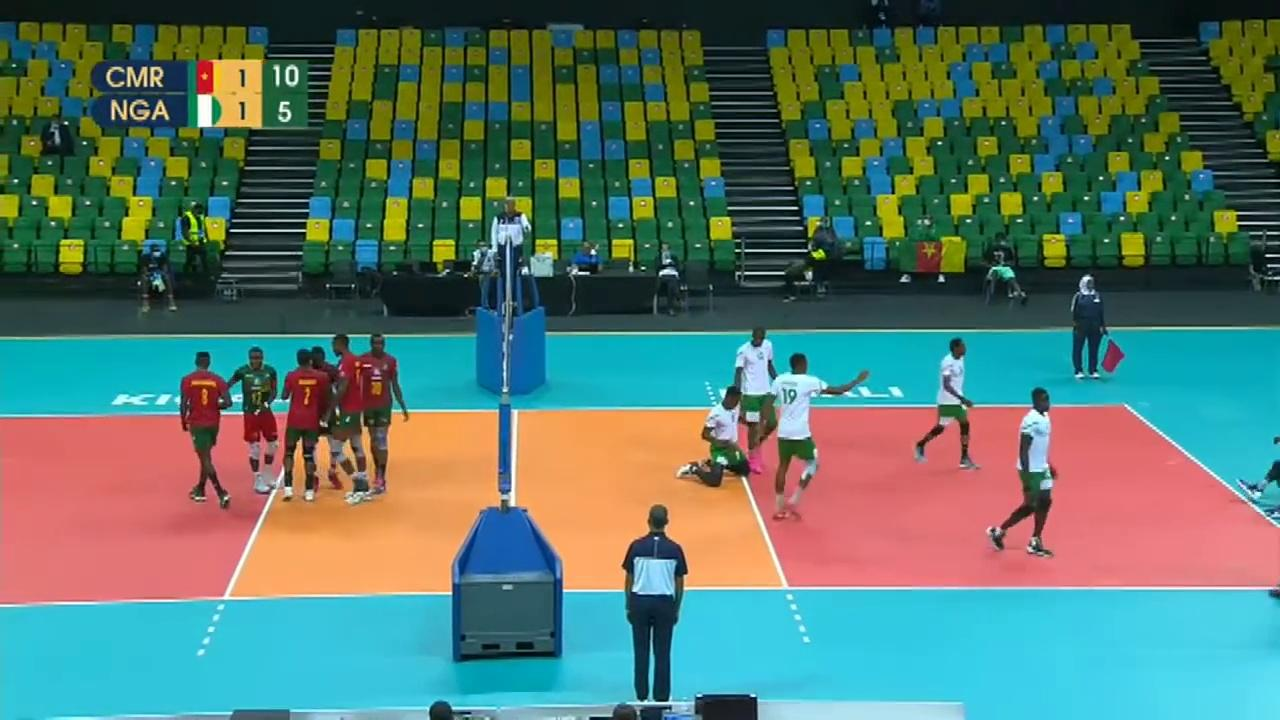player: (764, 354, 873, 518), (984, 391, 1056, 556), (910, 335, 978, 470), (326, 331, 377, 509), (226, 347, 284, 501), (181, 353, 229, 504), (737, 321, 781, 480), (685, 386, 754, 486), (300, 338, 342, 491), (286, 344, 324, 512), (365, 331, 401, 496)
refree: (618, 509, 688, 703), (1070, 275, 1115, 380), (488, 199, 531, 294)
